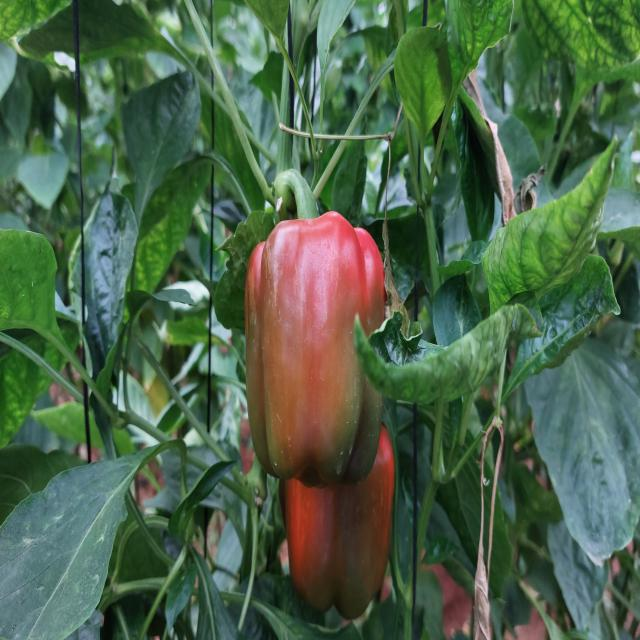BrownishRed--Can-be-Harvested: (239, 218, 385, 486), (272, 464, 396, 627)
